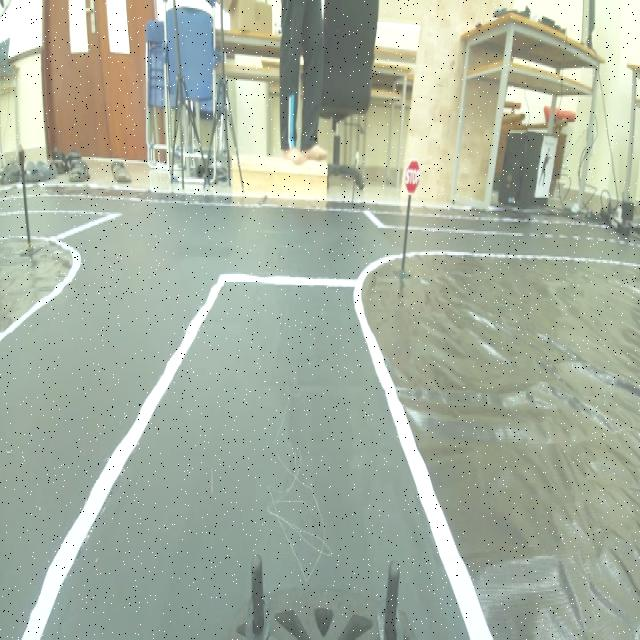stop: (400, 146, 422, 195)
